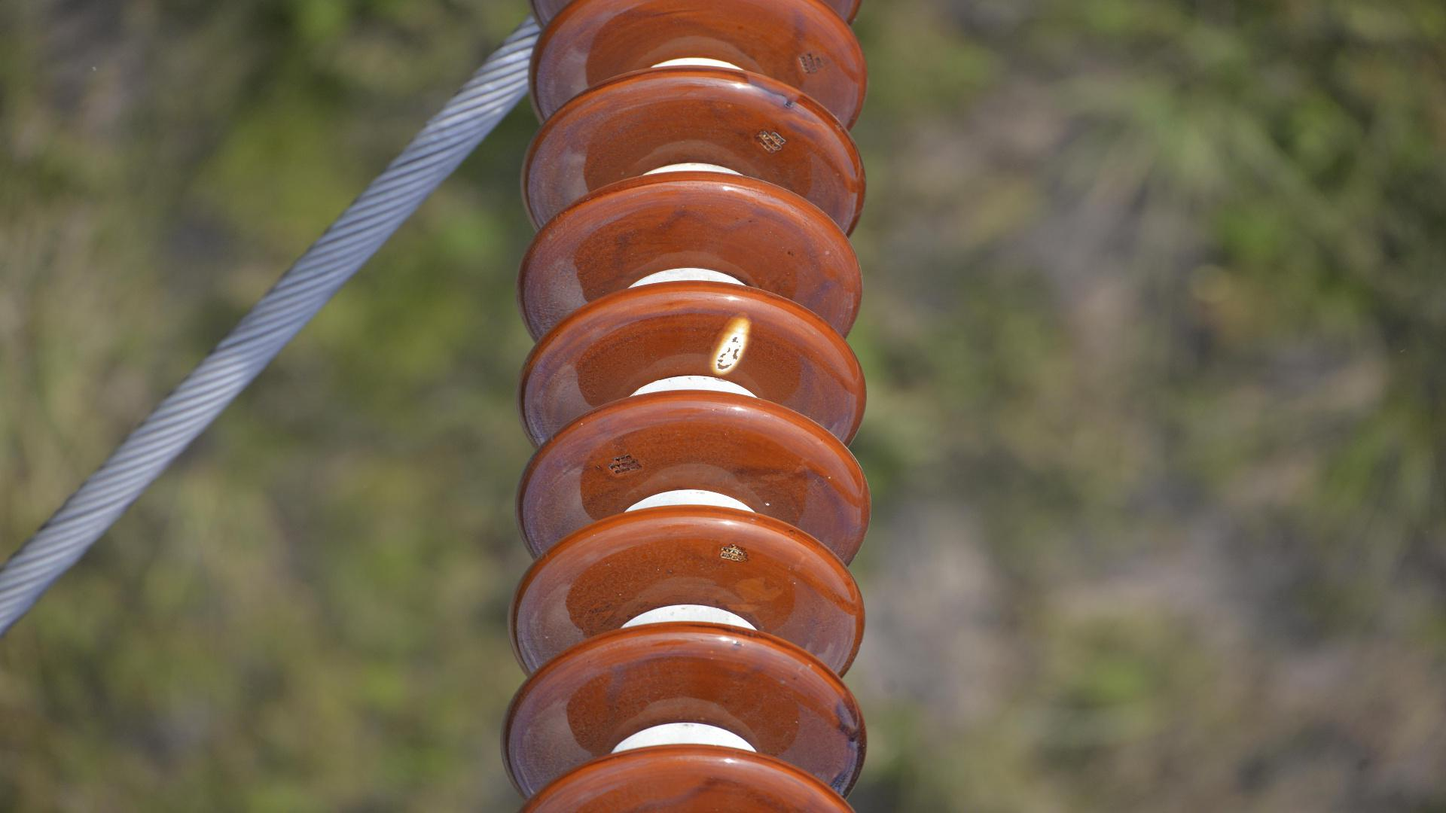insulator: (494, 1, 879, 813)
insulator_flashover: (705, 311, 756, 379)
